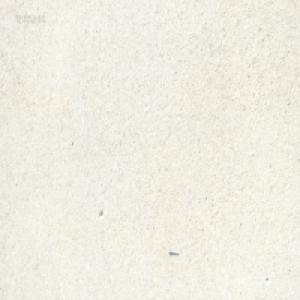Nail: (168, 247, 178, 255)
